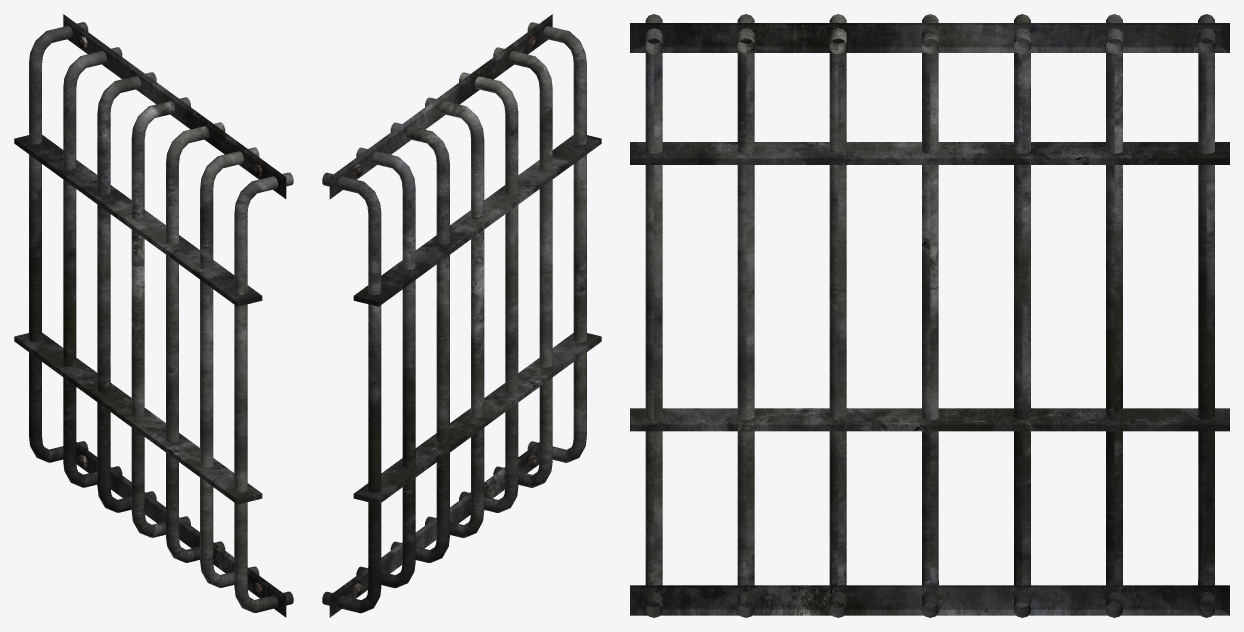
The model's file is Metal_Bar_Medium.fbx.
3 renders of one model, left to right at view 1: azimuth 30°, elevation 25°; view 2: azimuth 150°, elevation 25°; view 3: azimuth 270°, elevation 25°, orthographic. The views are drawn at different scales.
Visible parts, largest first — view 1: Metal_Bar_Medium; view 2: Metal_Bar_Medium; view 3: Metal_Bar_Medium.
Part boxes in pixels (x1,y1,x2,y2): Metal_Bar_Medium: (14, 14, 293, 617); Metal_Bar_Medium: (322, 14, 601, 617); Metal_Bar_Medium: (630, 14, 1229, 617).
Size of the model in its own units: 0.2076 by 1.41 by 1.29.
